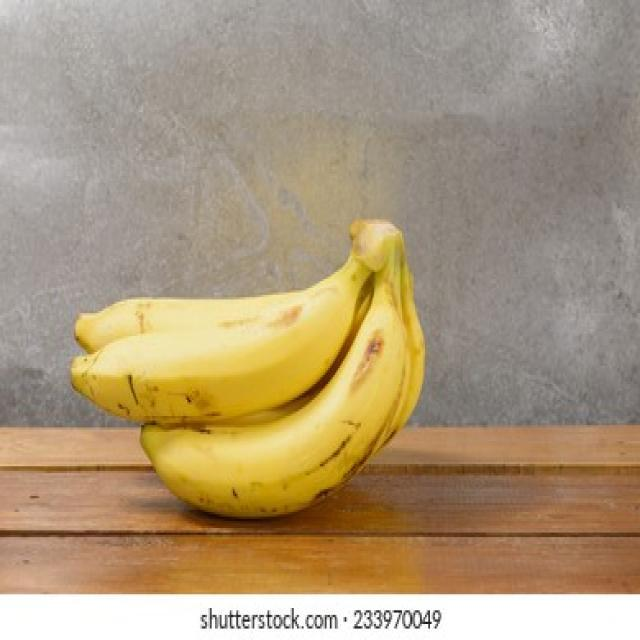banana: (67, 211, 428, 527)
